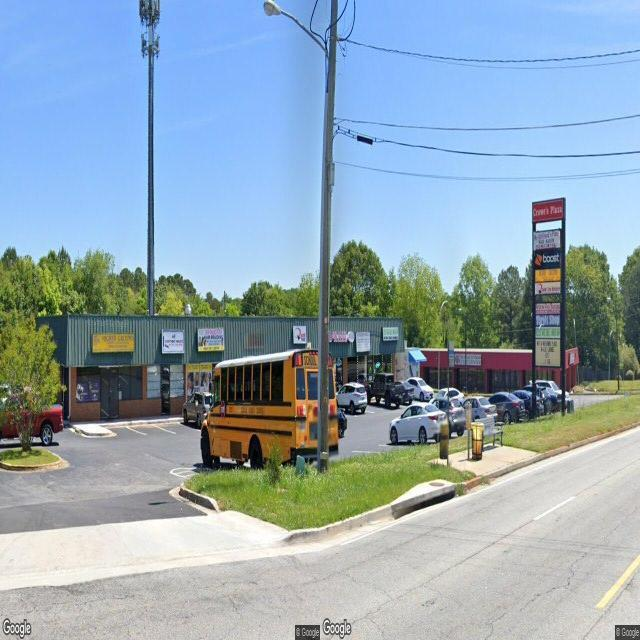seating: (473, 416, 503, 452)
trash_can: (470, 422, 484, 461), (439, 421, 448, 459)
